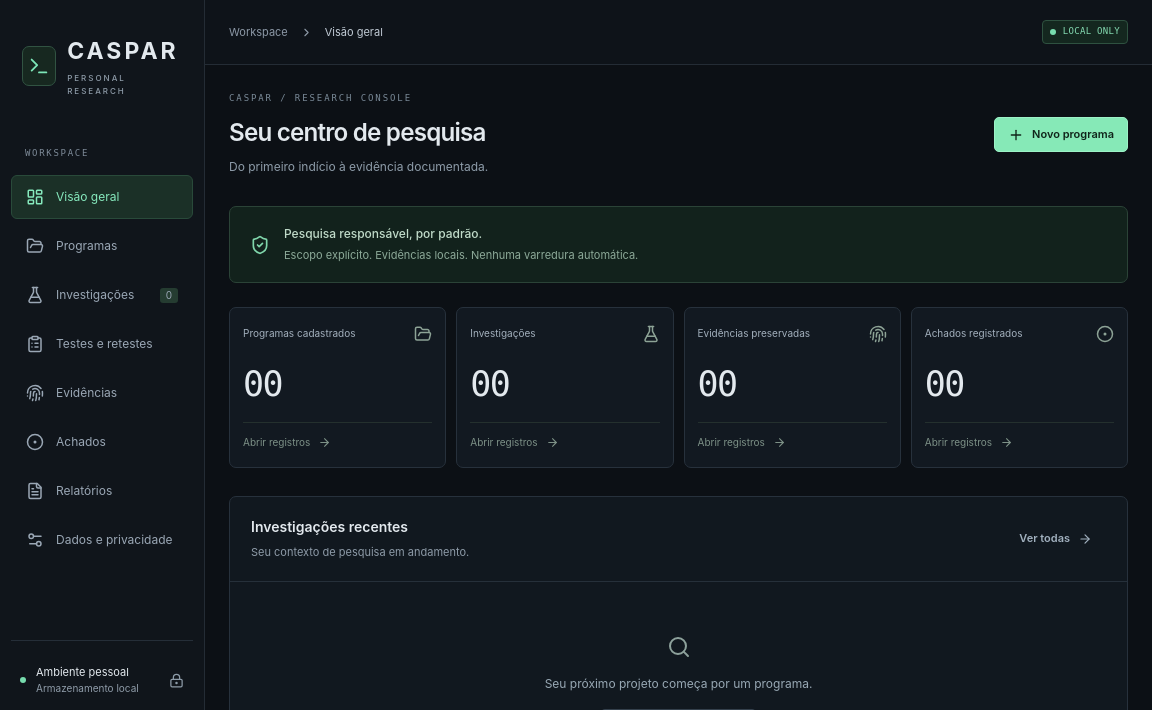
Personal workspace › opens program creation and displays API validation without closing the dialog
Expected: the text "Seu próximo projeto começa por um programa." is shown, [545,674,812,694]
Click the button "Novo programa": (1061, 135) [994,117,1128,152]
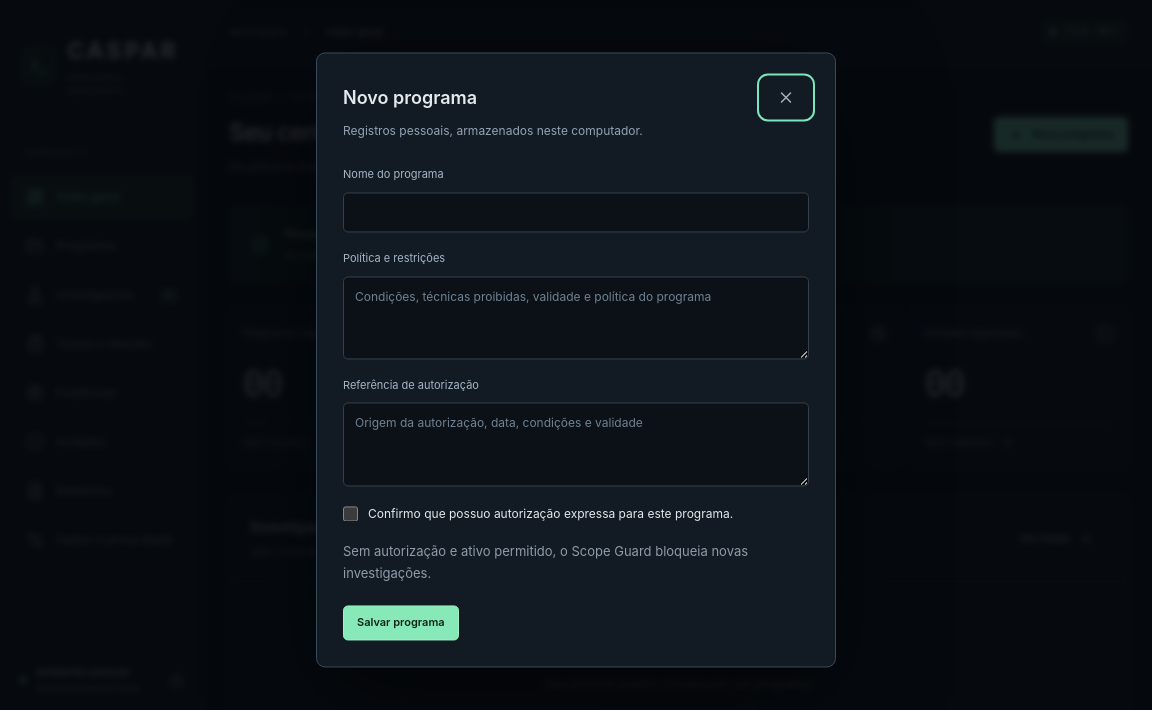
In the field labelled "Nome do programa": (576, 212) [343,192,809,232], type "Synthetic Lab"
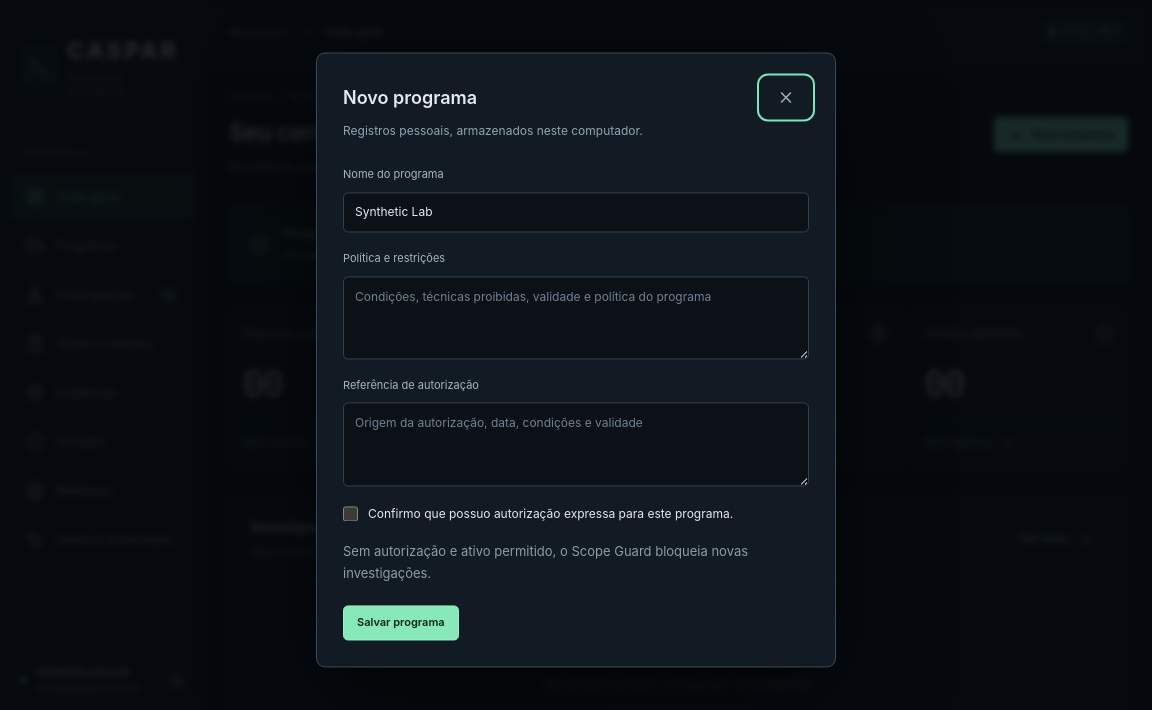
Click the button "Salvar programa": (401, 623) [343,606,459,640]
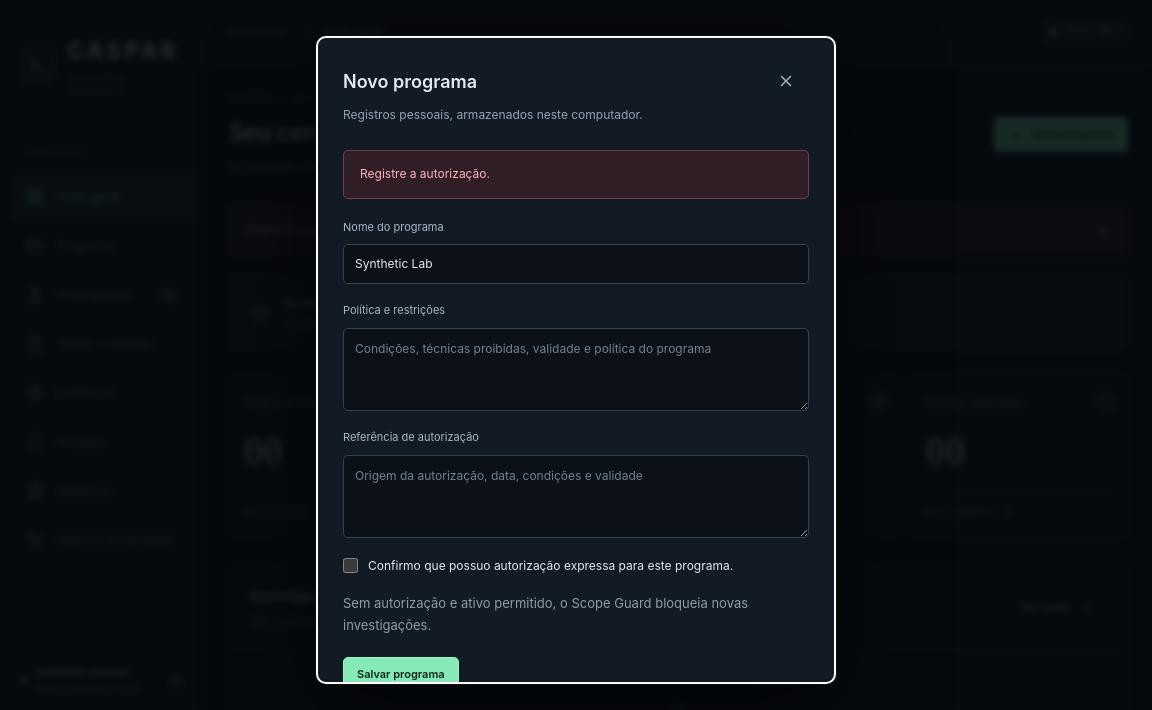
Expected: the dialog is shown, [316,36,836,684]
Expected: the message reads "Registre a autorização.", [360,166,490,181]
